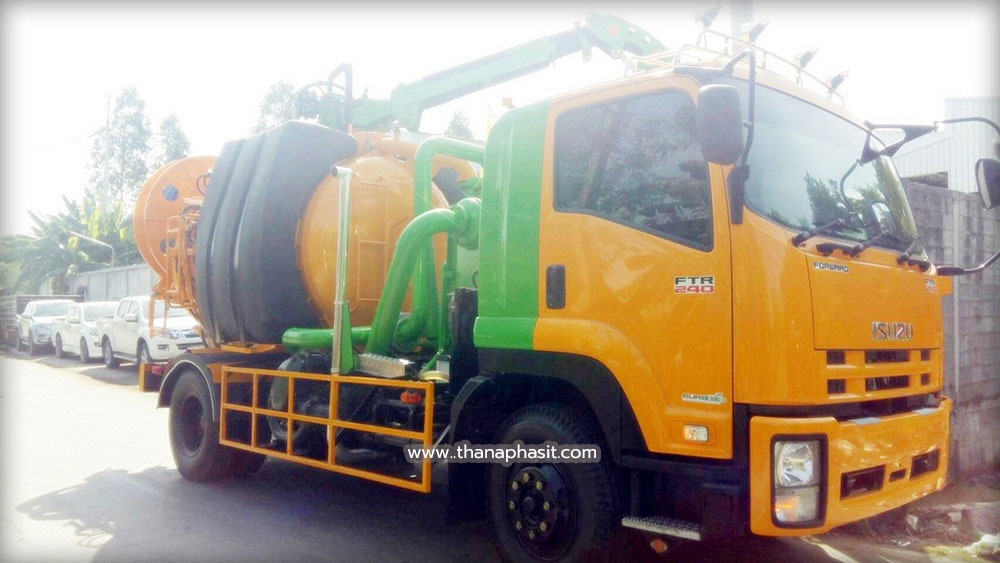truck: (134, 54, 948, 560)
